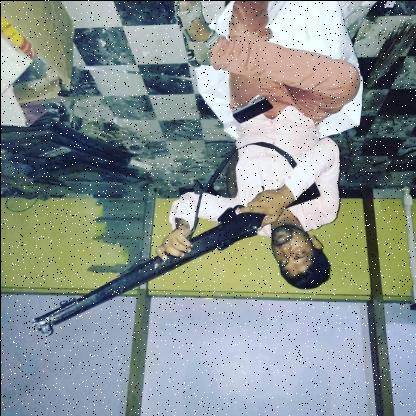rifle: (25, 167, 322, 338)
